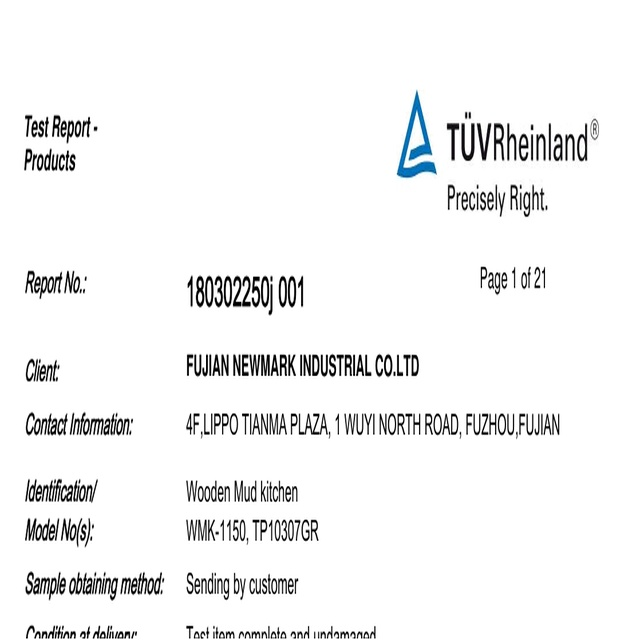tuv_rheinland: (395, 84, 602, 184)
